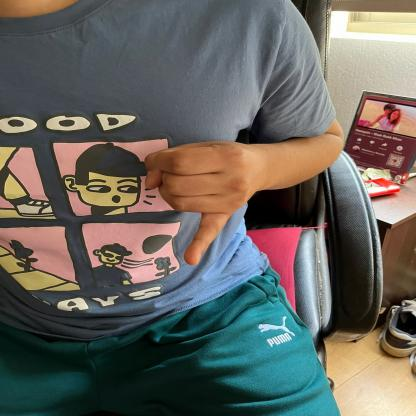Z: (138, 137, 257, 267)
